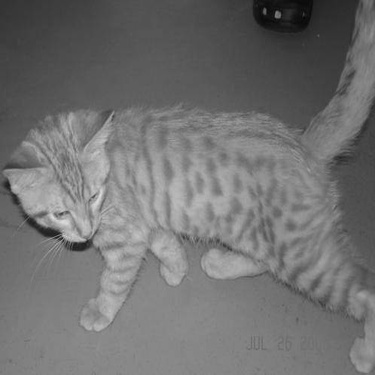cat: (3, 7, 374, 373)
